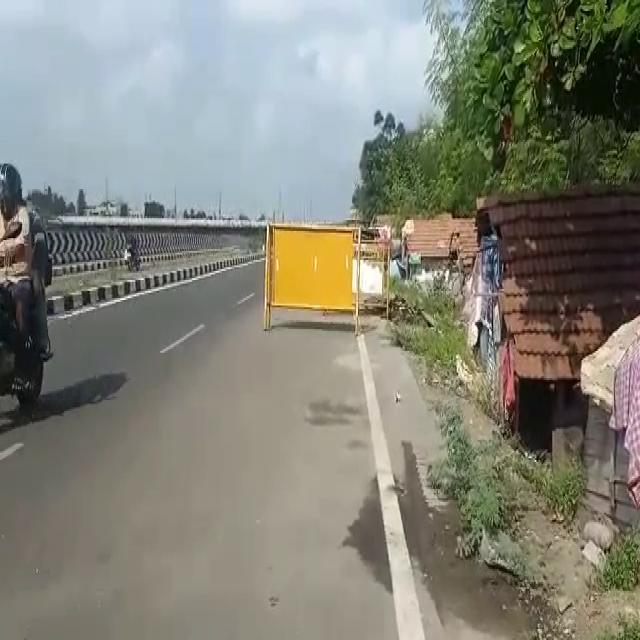fallen_object: (242, 202, 385, 337)
